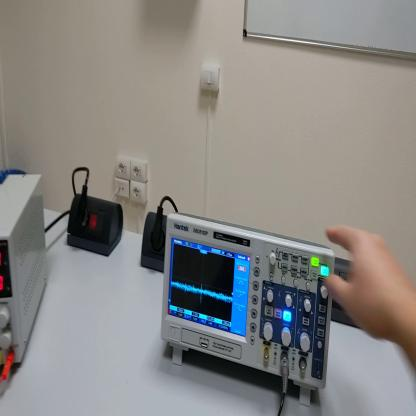hand: (320, 224, 409, 342)
oscilloscope: (160, 212, 335, 408)
power supply: (1, 174, 50, 363)
socket: (69, 193, 125, 259), (143, 210, 168, 273)
